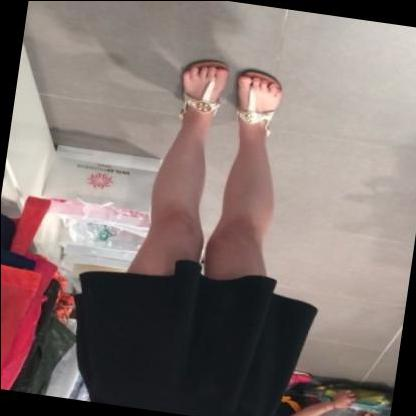no_safety-shoe: (225, 50, 286, 135), (164, 41, 226, 122)
